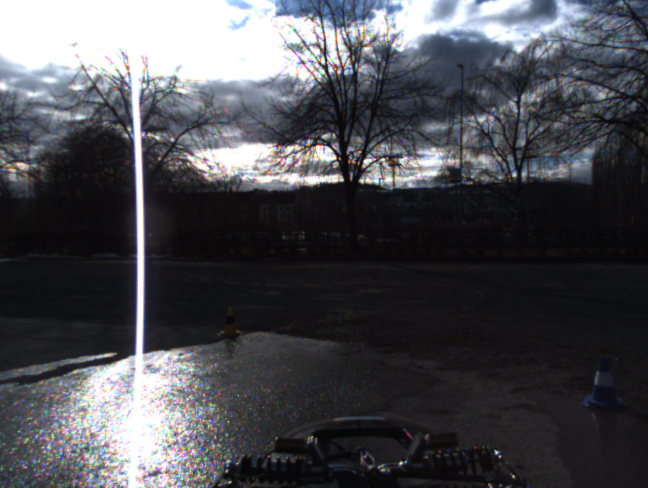cone-small-blue: (581, 355, 624, 409)
cone-small-yellow: (218, 307, 242, 336)
